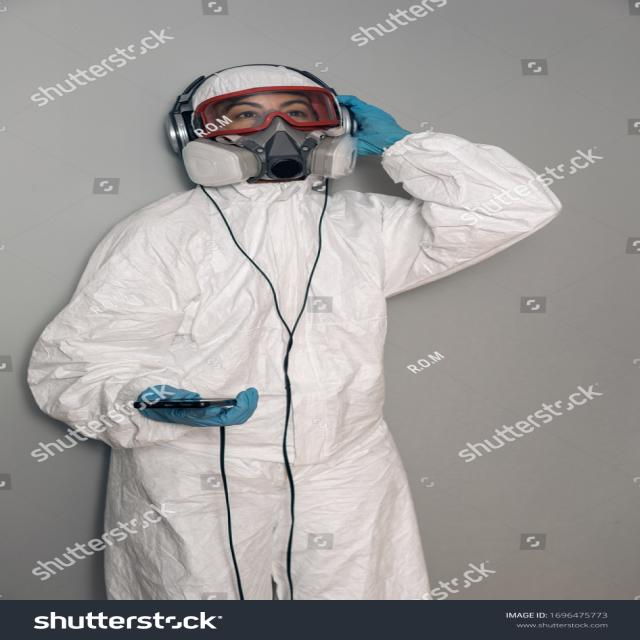Gloves: (128, 371, 276, 436), (307, 86, 419, 162)
